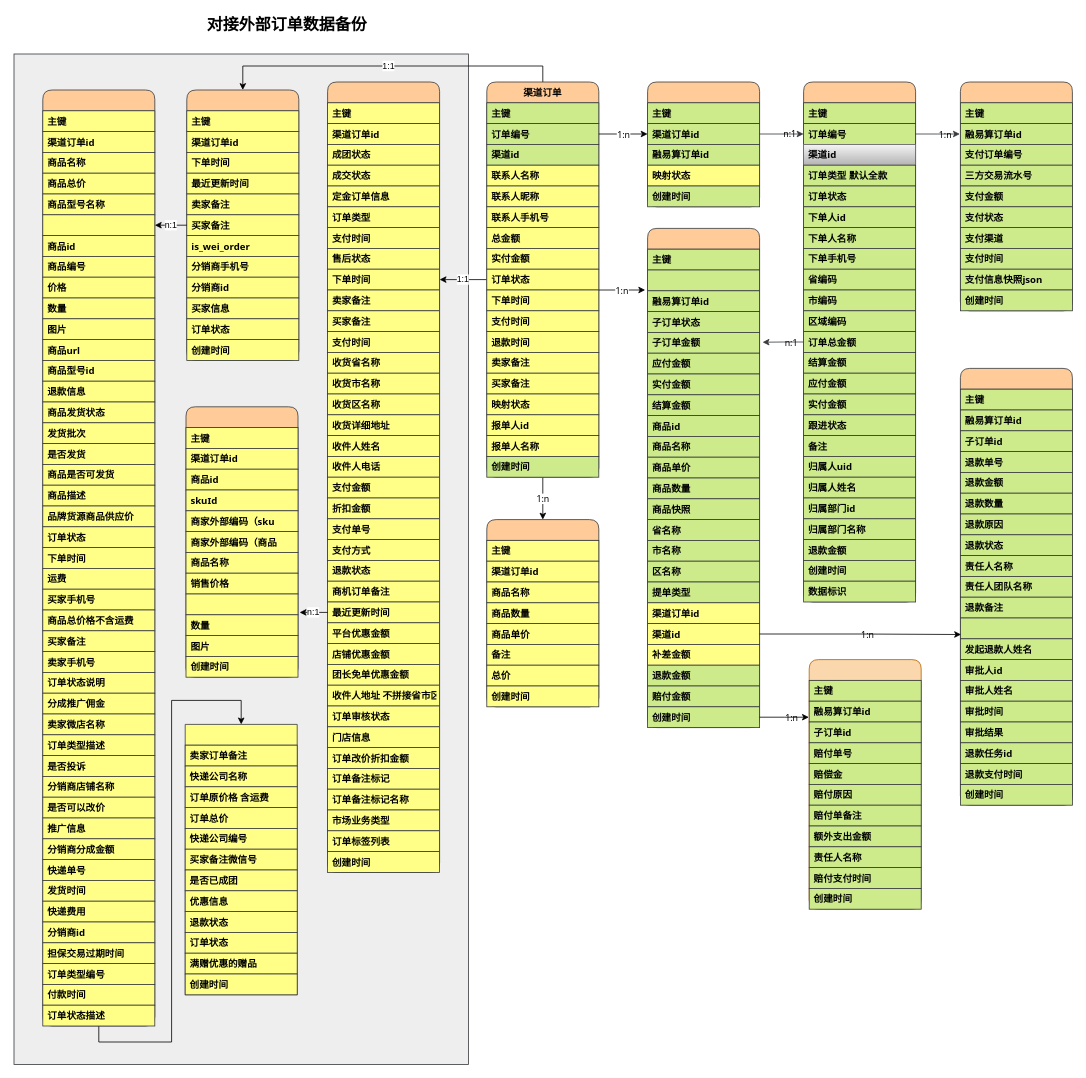
Some shapes in this 1086 by 1078 pixel diagram are drawn without their labels. The box of each missing label's shape, as (x1, y1, x2, y2) in pixels:
内外订单-映射关系: (647, 81, 760, 207)
分销分成比例: (42, 214, 155, 236)
发起退款人id: (960, 617, 1072, 639)
商品规格: (185, 593, 298, 615)
子订单编号: (647, 269, 760, 291)
微店商品补充字段: (184, 724, 297, 995)
微店渠道订单商品详情: (42, 89, 155, 1026)
微店渠道订单详情: (186, 89, 299, 360)
拼多多渠道订单商品详情: (185, 406, 298, 677)
拼多多渠道订单详情: (327, 81, 440, 872)
渠道订单商品: (486, 519, 599, 707)
融易算子订单: (647, 228, 760, 728)
融易算支付订单: (960, 81, 1072, 311)
融易算订单: (803, 81, 916, 602)
融易算赔付订单: (808, 659, 921, 909)
融易算退款订单: (960, 368, 1072, 805)
